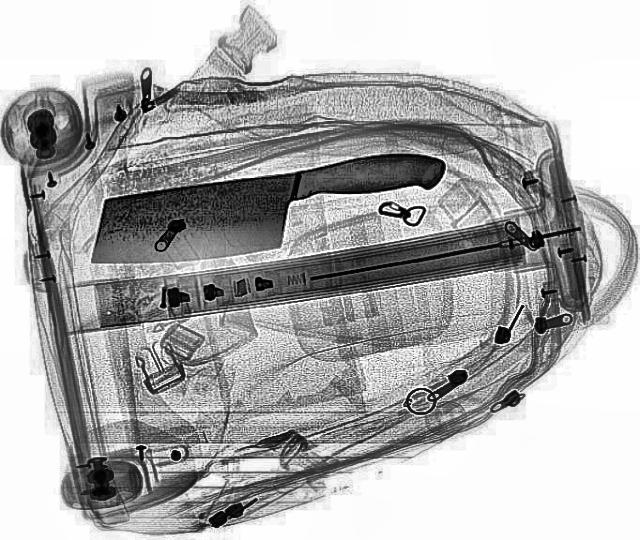Knife: (72, 144, 456, 272)
